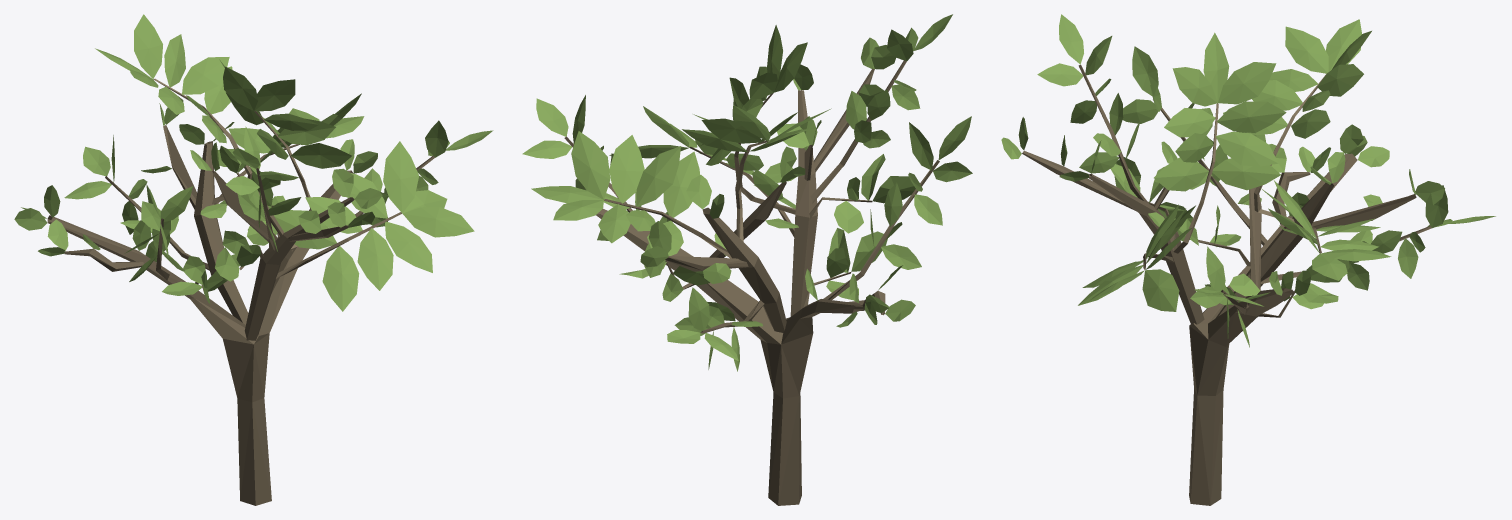
File: Cherry_5_1.fbx
3 views of the same model, side by side, from view 1: azimuth 30°, elevation 25°; view 2: azimuth 150°, elevation 25°; view 3: azimuth 270°, elevation 25° (orthographic). The views are drawn at different scales.
Visible parts, largest first — view 1: Cherry_5_1; view 2: Cherry_5_1; view 3: Cherry_5_1.
Boxes of the visible parts, left/top/right/bottom form: Cherry_5_1: left=14, top=14, right=493, bottom=505; Cherry_5_1: left=522, top=14, right=972, bottom=505; Cherry_5_1: left=1001, top=14, right=1495, bottom=505.
Bounding box in the file's own units: 353 × 364 × 361.
